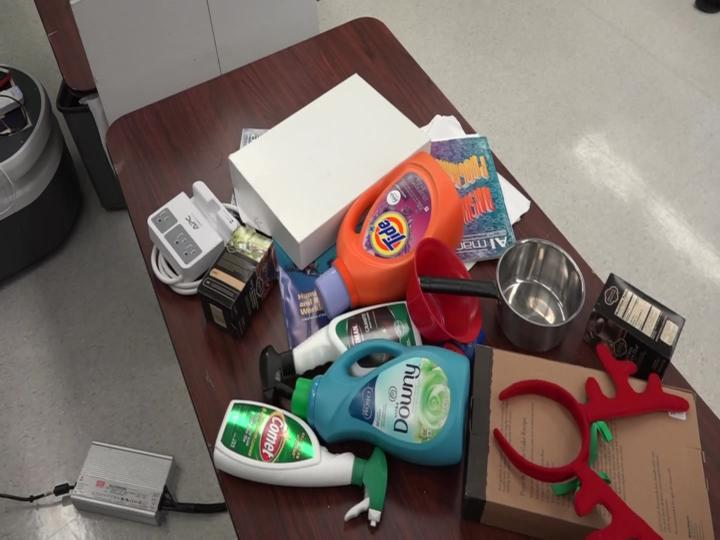downy: (273, 329, 487, 476)
